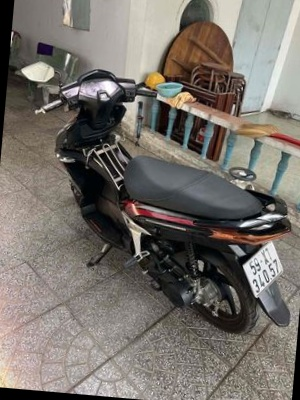Bien-so: (229, 249, 271, 306)
